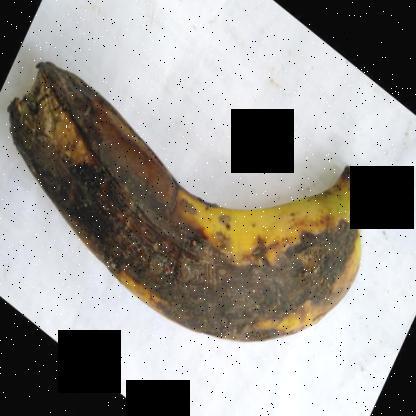rotten: (8, 66, 380, 366)
